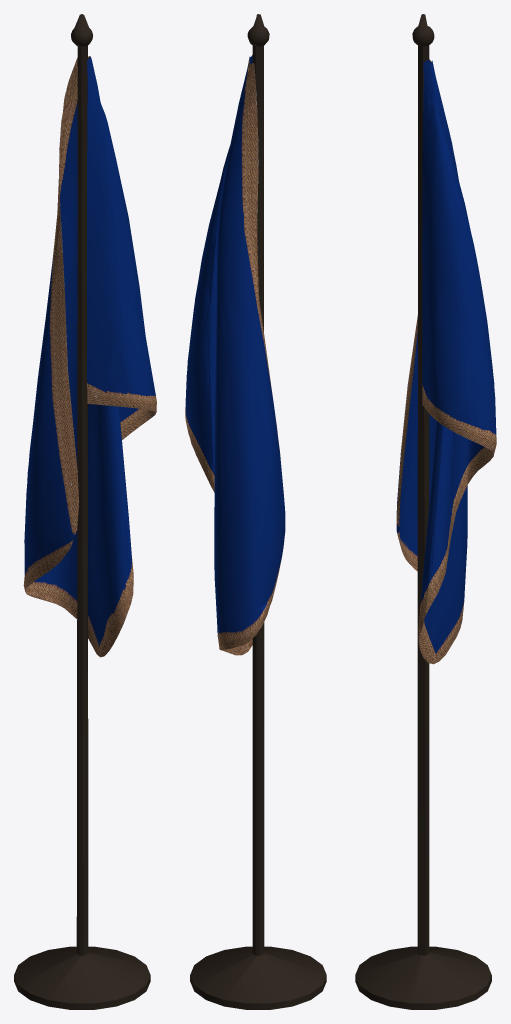
File: Flag 2.FBX
The picture shows the model from 3 angles, left to right: view 1: azimuth 30°, elevation 25°; view 2: azimuth 150°, elevation 25°; view 3: azimuth 330°, elevation 25°; orthographic projection.
Visible parts, largest first — view 1: Flag 2; view 2: Flag 2; view 3: Flag 2.
Part boxes in pixels (<box>): Flag 2: <box>14,14,156,1009</box>; Flag 2: <box>185,14,326,1009</box>; Flag 2: <box>355,14,496,1009</box>.
Size of the model in its own units: 39.46 by 282 by 36.3.
1 material, 1 textured.
